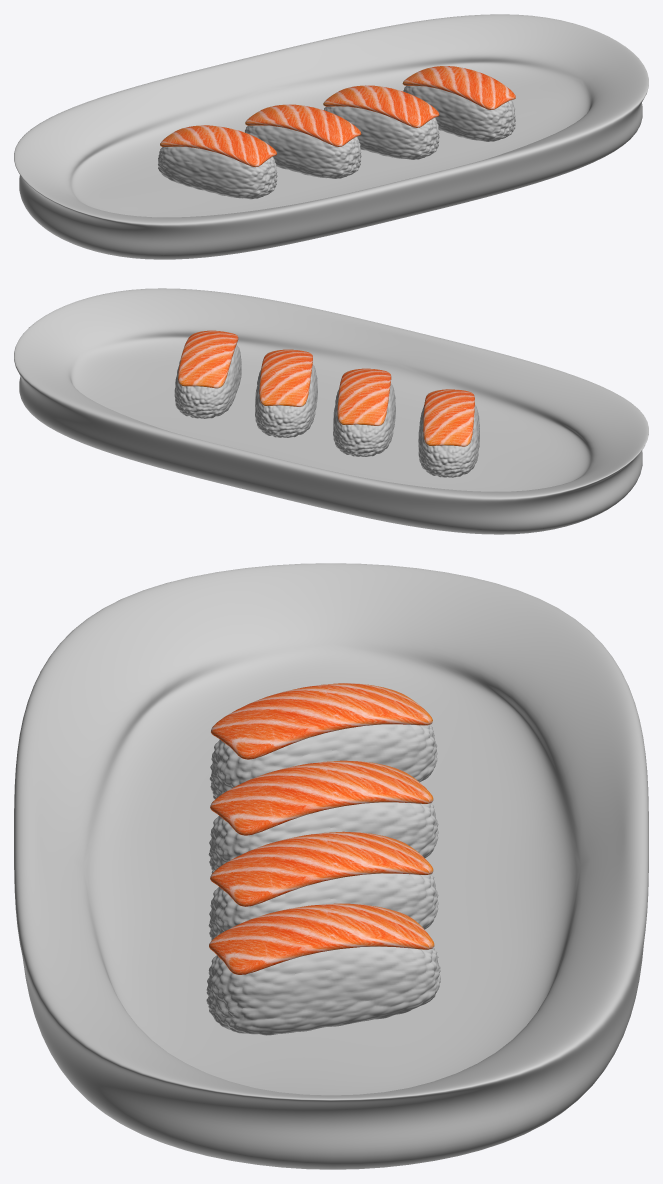
Rendered from Sushi.fbx.
3 views of the same model, one above another, from view 1: azimuth 30°, elevation 25°; view 2: azimuth 150°, elevation 25°; view 3: azimuth 270°, elevation 25° (orthographic). The views are drawn at different scales.
Visible parts, largest first — view 1: Cube.003, rice, rice.001, rice.002, rice.003, Salmon.002, Salmon, Salmon.001, Salmon.003; view 2: Cube.003, Salmon.003, Salmon, Salmon.001, Salmon.002, rice.003, rice.002, rice.001, rice; view 3: Cube.003, rice.003, Salmon.003, Salmon.001, Salmon.002, Salmon, rice, rice.001, rice.002.
Part boxes in pixels (left/top/right/bottom): Cube.003: left=14, top=14, right=648, bottom=259; rice: left=158, top=146, right=277, bottom=199; rice.001: left=244, top=125, right=361, bottom=178; rice.002: left=324, top=106, right=439, bottom=159; rice.003: left=403, top=85, right=515, bottom=141; Salmon.002: left=323, top=85, right=439, bottom=127; Salmon: left=160, top=125, right=276, bottom=167; Salmon.001: left=245, top=104, right=361, bottom=146; Salmon.003: left=402, top=66, right=515, bottom=109; Cube.003: left=14, top=288, right=648, bottom=534; Salmon.003: left=178, top=330, right=238, bottom=388; Salmon: left=423, top=389, right=474, bottom=446; Salmon.001: left=337, top=368, right=391, bottom=425; Salmon.002: left=259, top=349, right=312, bottom=406; rice.003: left=174, top=344, right=241, bottom=418; rice.002: left=255, top=364, right=317, bottom=437; rice.001: left=333, top=383, right=395, bottom=456; rice: left=418, top=405, right=479, bottom=477; Cube.003: left=14, top=563, right=648, bottom=1169; rice.003: left=206, top=946, right=440, bottom=1035; Salmon.003: left=209, top=903, right=434, bottom=974; Salmon.001: left=210, top=760, right=433, bottom=835; Salmon.002: left=210, top=831, right=433, bottom=906; Salmon: left=211, top=683, right=432, bottom=759; rice: left=209, top=724, right=437, bottom=799; rice.001: left=208, top=802, right=438, bottom=872; rice.002: left=208, top=873, right=438, bottom=940.
Bounding box in the file's own units: 2679 × 329 × 1339.
